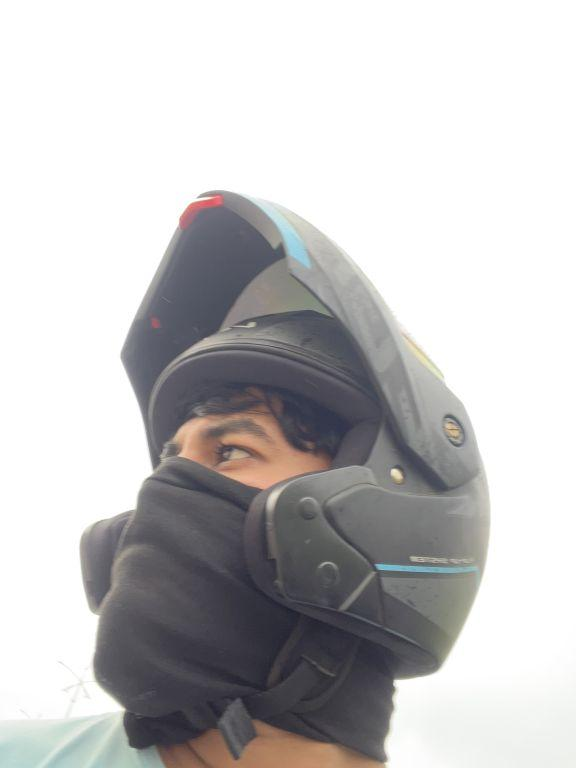helmet: (67, 169, 505, 730)
